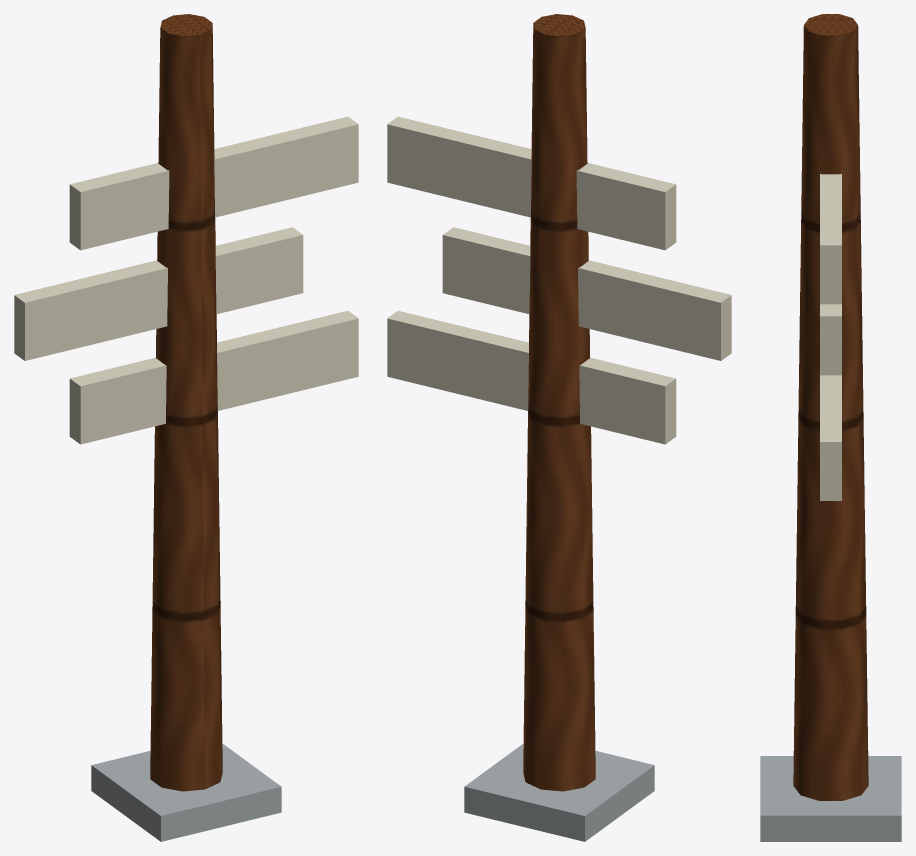
File: prehistoric-survivor-settlement-village-direction-pole-9f92e918__23222.glb
3 renders of one model, left to right at view 1: azimuth 30°, elevation 25°; view 2: azimuth 150°, elevation 25°; view 3: azimuth 270°, elevation 25°, orthographic.
Visible parts, largest first — view 1: village-direction-pole; view 2: village-direction-pole; view 3: village-direction-pole.
Part boxes in pixels (box(x1,y1,x2,y2)): village-direction-pole: box(14, 14, 358, 841); village-direction-pole: box(387, 14, 731, 841); village-direction-pole: box(760, 14, 901, 841).
Bounding box in the file's own units: 1.08 × 2.4 × 0.39.
Materials: 3 (1 with a texture image).
